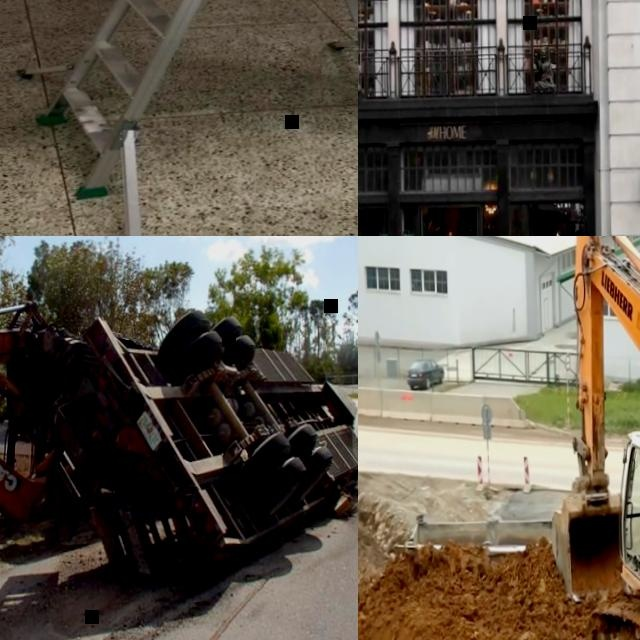machinery: (0, 300, 358, 575), (544, 236, 640, 640)
vehicle: (407, 356, 444, 393)
